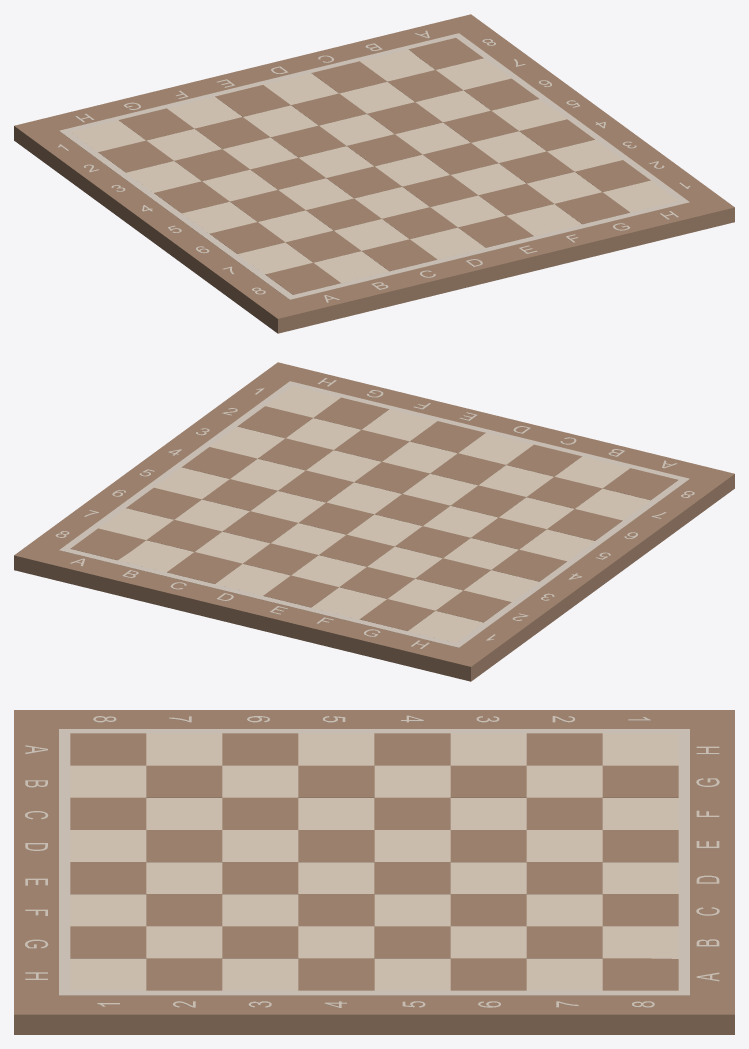
The model's file is board.fbx.
3 renders of one model, top to bottom at view 1: azimuth 30°, elevation 25°; view 2: azimuth 150°, elevation 25°; view 3: azimuth 270°, elevation 25°, orthographic. The views are drawn at different scales.
Visible parts, largest first — view 1: Body2, Body36, Body1, Body3; view 2: Body2, Body36, Body1, Body3; view 3: Body2, Body36, Body1, Body3.
Part boxes in pixels (x1,y1,x2,y2): Body2: [98, 38, 650, 294]; Body36: [71, 49, 678, 282]; Body1: [14, 14, 734, 333]; Body3: [59, 33, 689, 299]; Body2: [70, 397, 678, 630]; Body36: [98, 386, 650, 642]; Body1: [14, 362, 734, 681]; Body3: [59, 381, 689, 647]; Body2: [70, 733, 678, 990]; Body36: [70, 733, 678, 990]; Body1: [14, 710, 734, 1034]; Body3: [59, 729, 689, 995].
Bounding box in the file's own units: 32 × 1.01 × 32.
